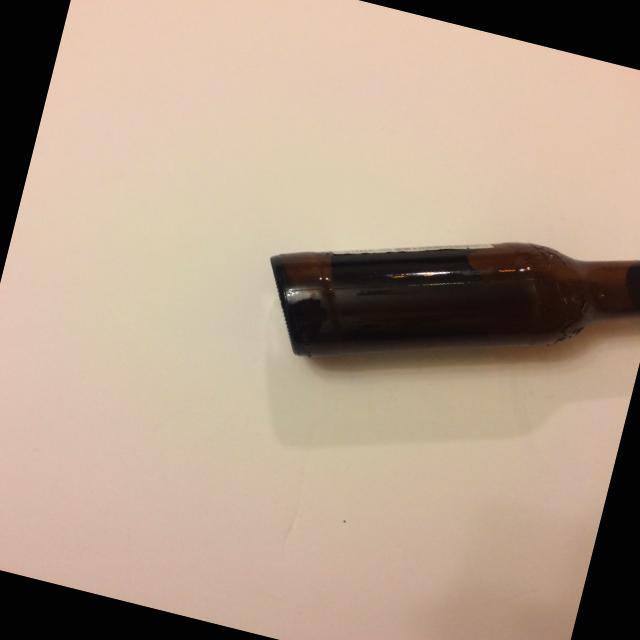Glass: (237, 159, 640, 441)
